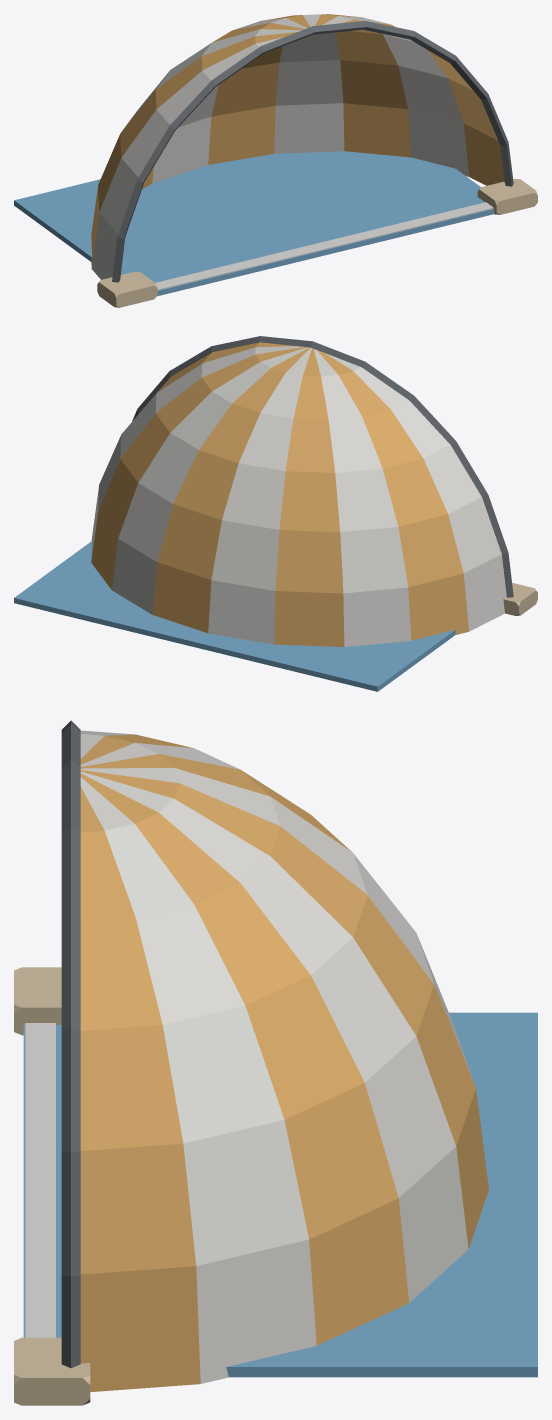
File: beach_tent.glb
3 views of the same model, one above another, from view 1: azimuth 30°, elevation 25°; view 2: azimuth 150°, elevation 25°; view 3: azimuth 270°, elevation 25° (orthographic). The views are drawn at different scales.
Parts seen in each view (by area): view 1: beach_tent; view 2: beach_tent; view 3: beach_tent.
Boxes of the visible parts, bbox=[...] form: beach_tent: bbox=[14, 14, 537, 307]; beach_tent: bbox=[14, 336, 537, 691]; beach_tent: bbox=[14, 720, 537, 1405].
Size of the model in its own units: 2.55 by 1.28 by 1.38.
